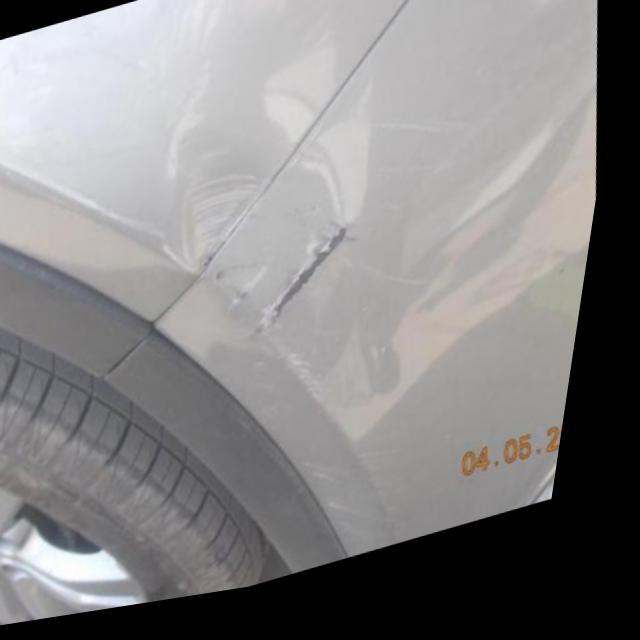crack: (268, 234, 371, 343)
rub: (293, 353, 446, 559), (195, 177, 272, 280)
